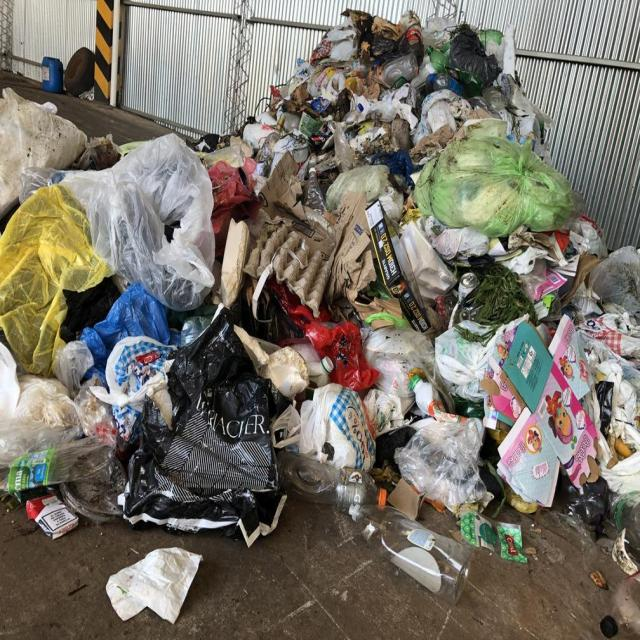bottle: (337, 486, 475, 602), (264, 448, 392, 517), (0, 430, 117, 497), (254, 112, 287, 182), (406, 370, 442, 423), (302, 164, 330, 218), (370, 54, 412, 89), (201, 143, 248, 172), (332, 128, 354, 168), (422, 43, 448, 71)
